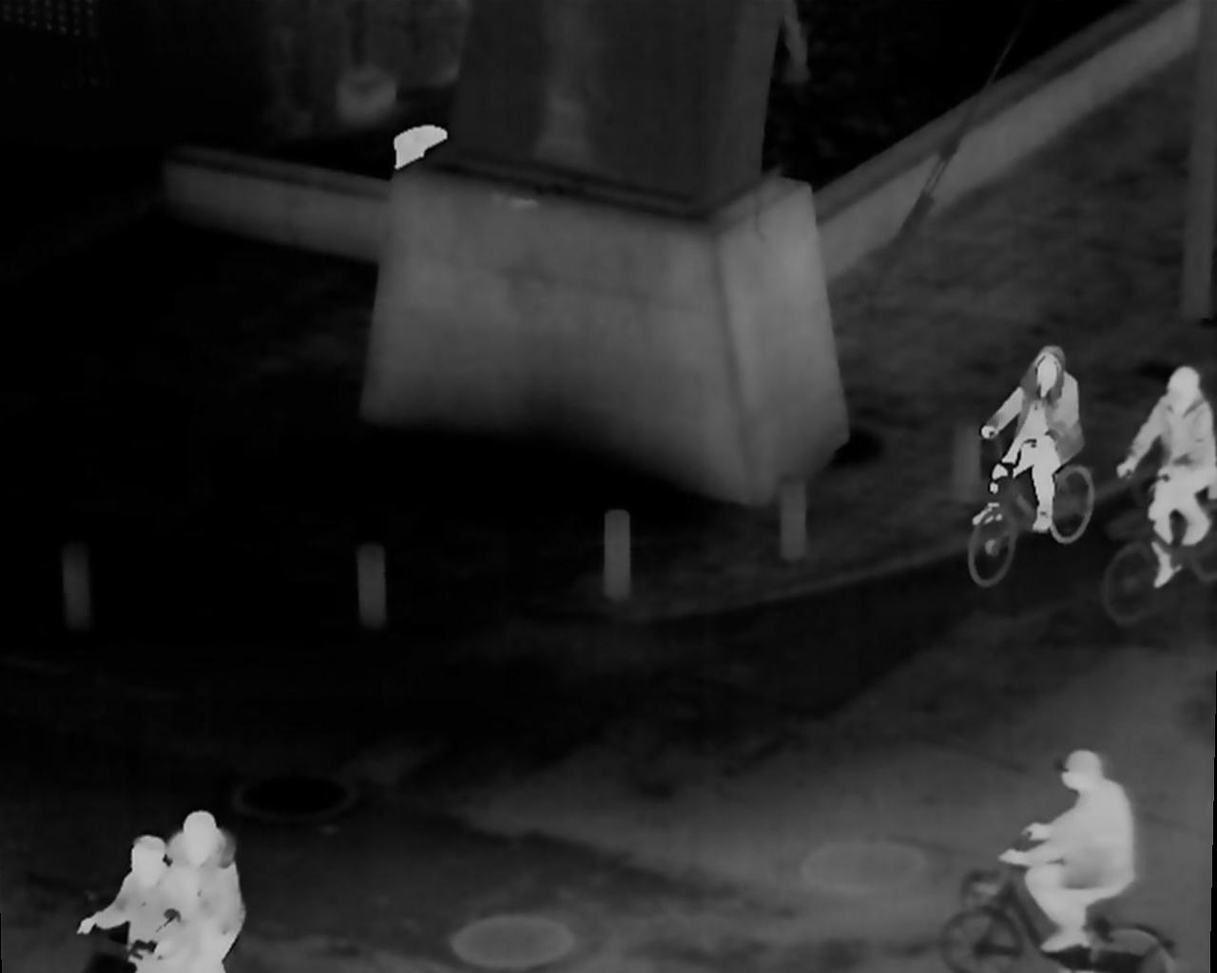person: (1023, 745, 1136, 948), (985, 350, 1083, 521), (1134, 368, 1217, 566), (153, 820, 245, 973), (106, 836, 181, 961)
